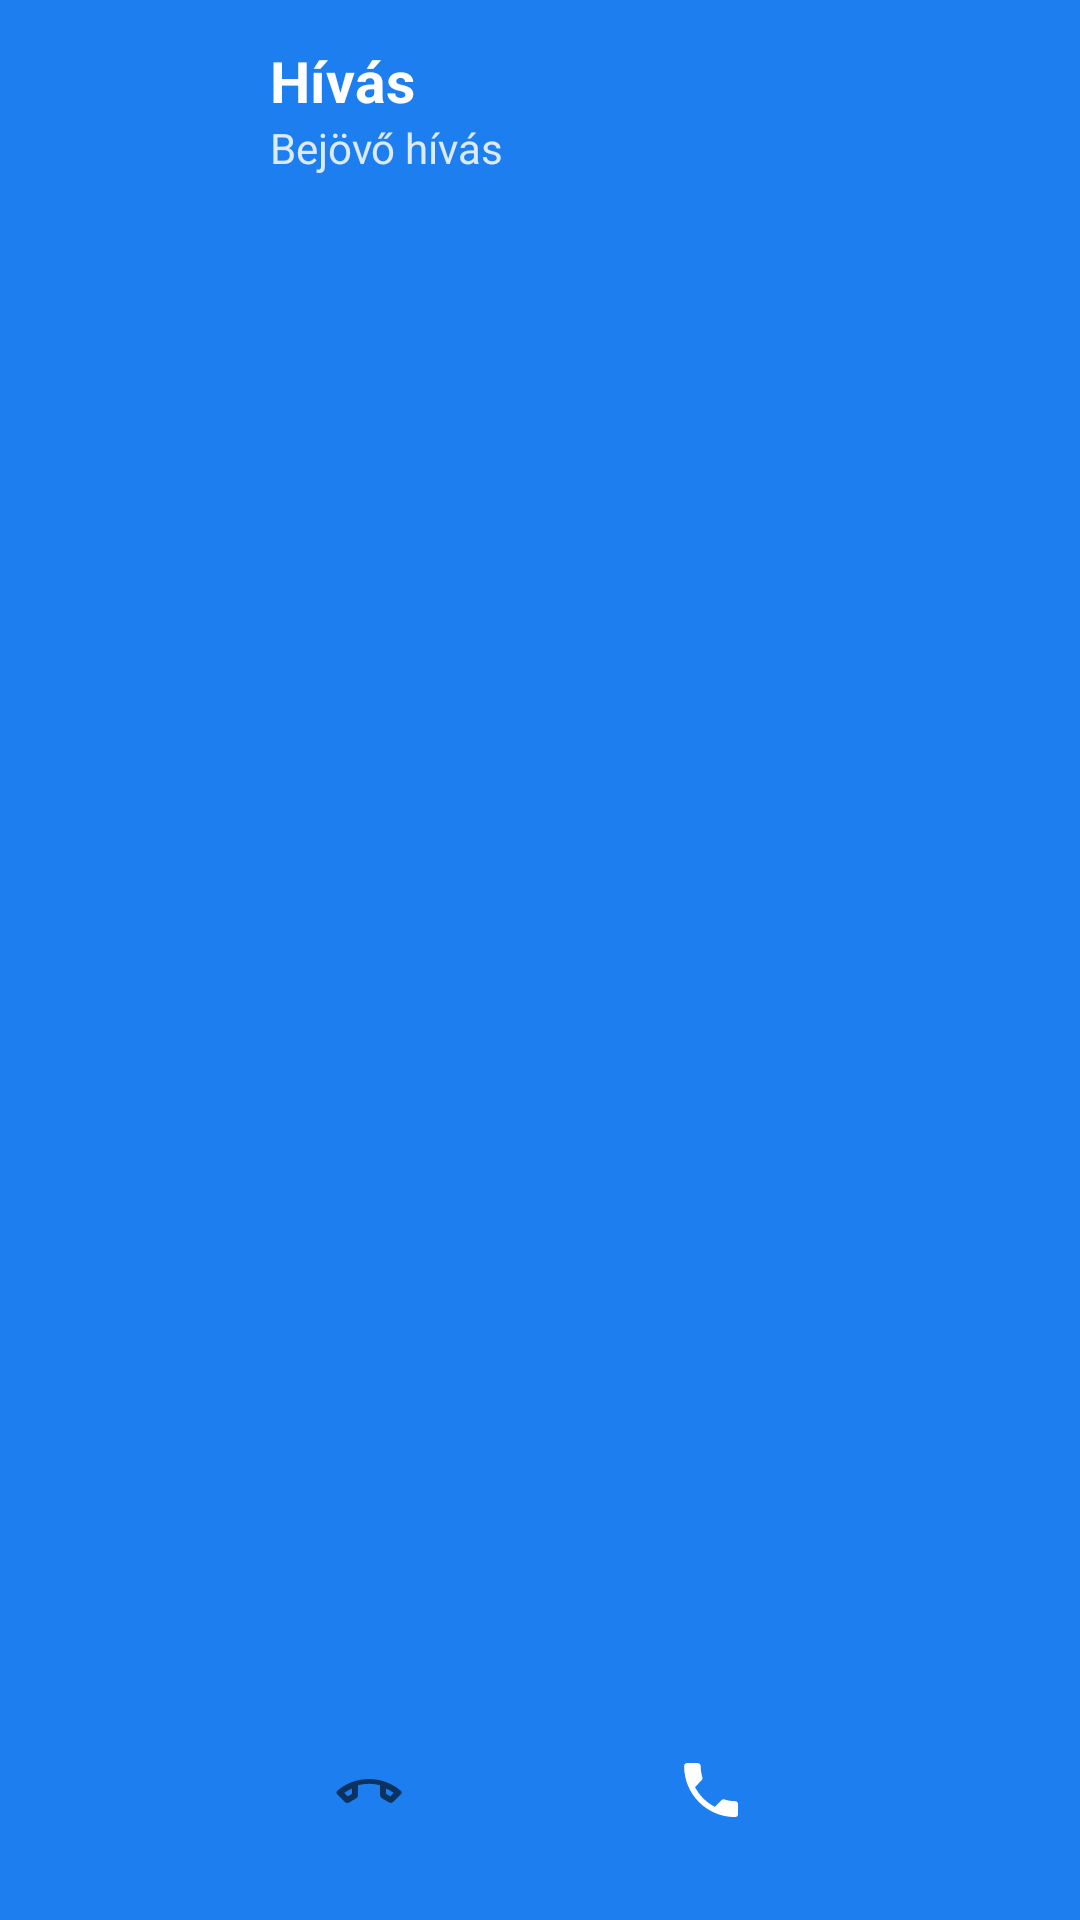

Icon bounding boxes for this 1080×1920 phone screenshot, format (x1, y1, x2, y2):
Elutasítás: (336, 1779, 402, 1803)
Fogadás: (684, 1763, 738, 1817)
